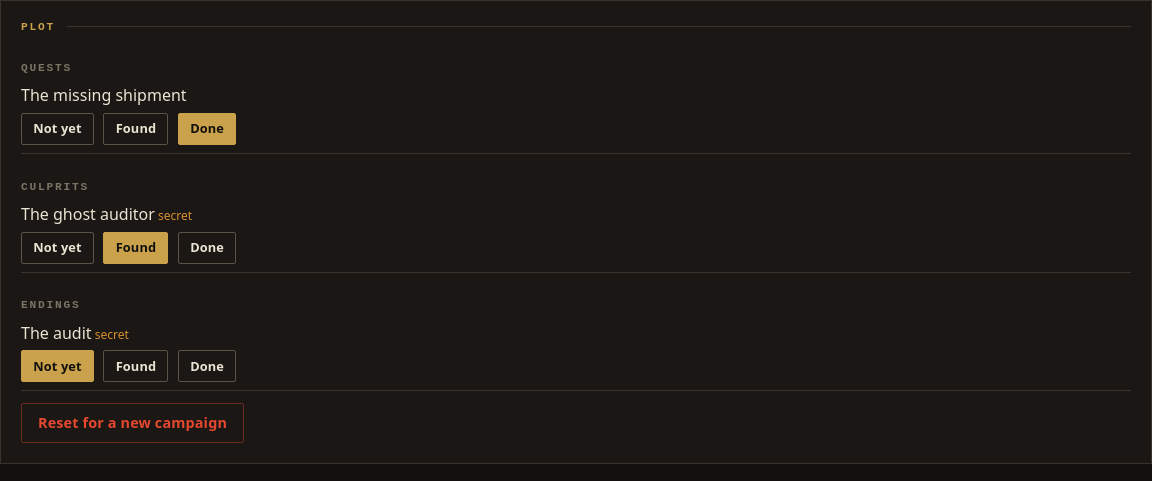
Scenario: PlotPanel reset › asks twice and then clears everything
The image size is (1152, 481).
Expected: the list item with test id "plot-quest/missing-shipment" is shown, left=21, top=83, right=1131, bottom=154
Click the button with test id "plot-reset" at (132, 423), box left=21, top=403, right=244, bottom=443
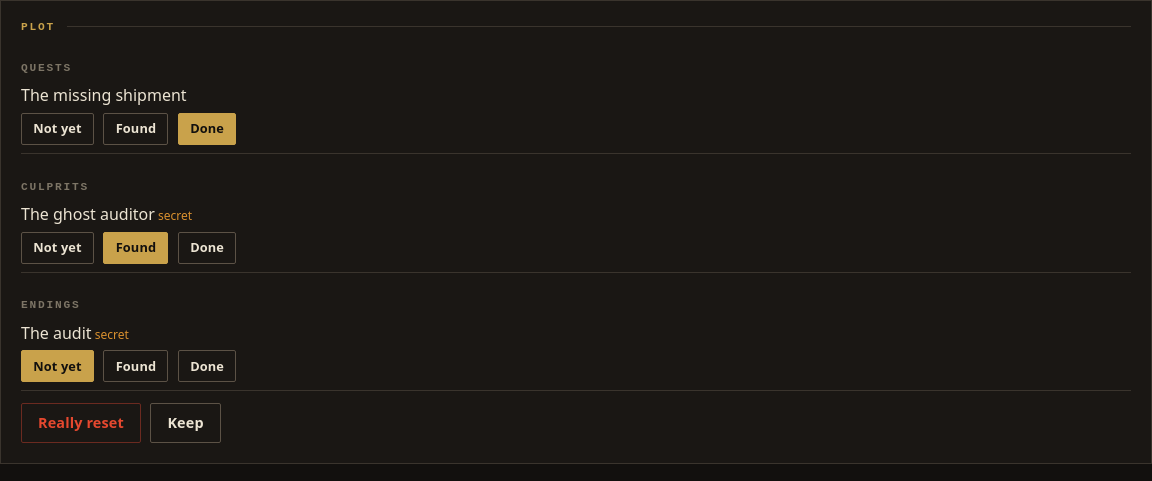
Click the button with test id "plot-reset-confirm" at (81, 423), box left=21, top=403, right=141, bottom=443
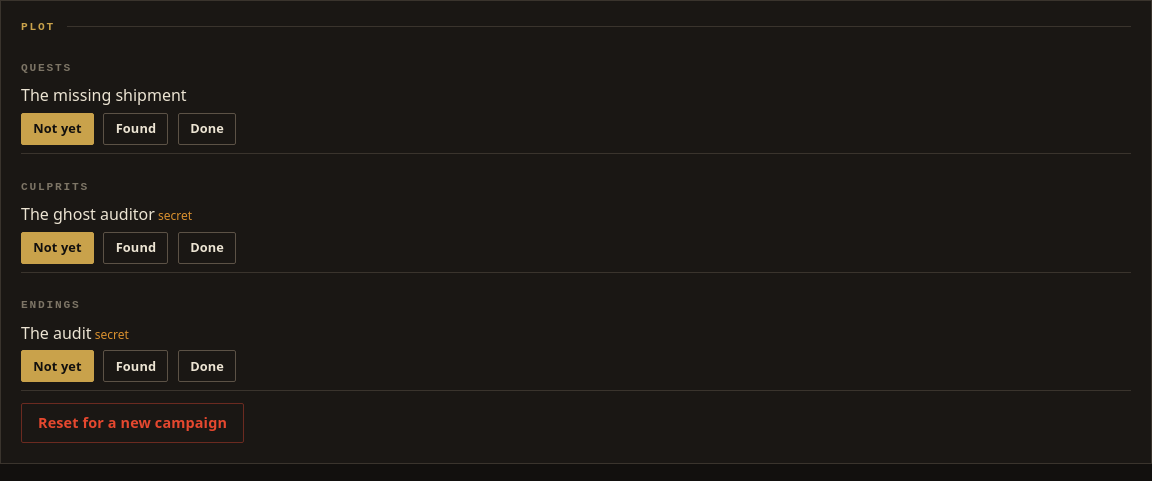
Expected: the button with test id "plot-reset-confirm" is gone
